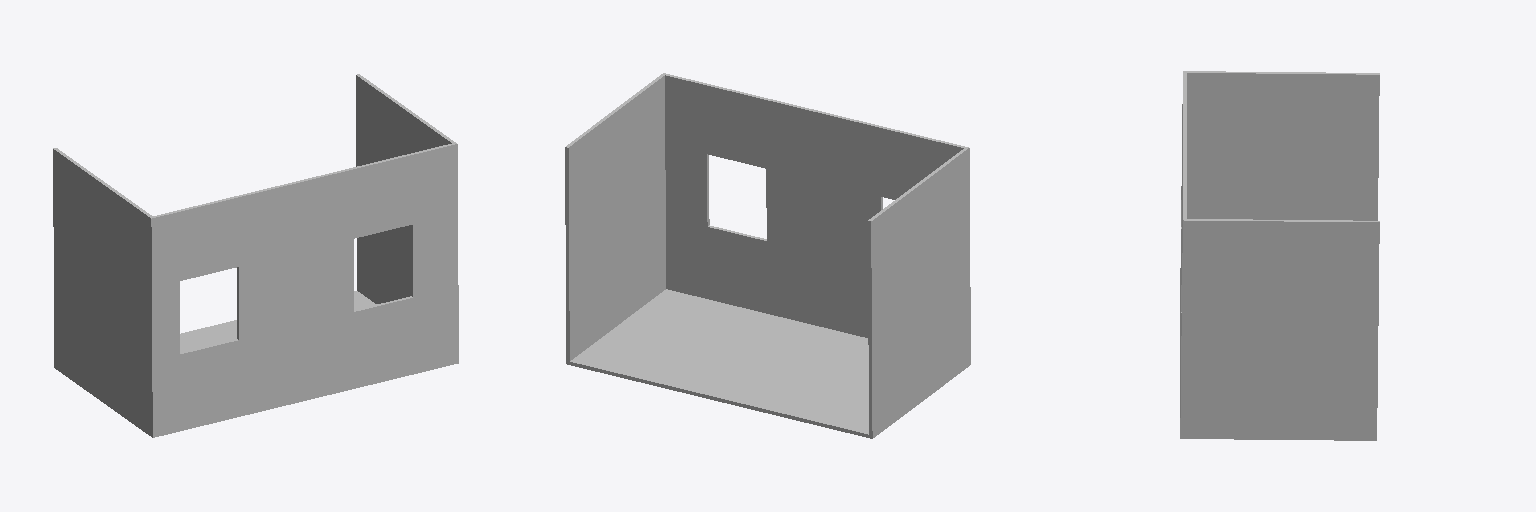
File: room5.obj
3 views of the same model, side by side, from view 1: azimuth 30°, elevation 25°; view 2: azimuth 150°, elevation 25°; view 3: azimuth 270°, elevation 25° (orthographic).
Parts seen in each view (by area): view 1: obj_0; view 2: obj_0; view 3: obj_0.
Part boxes in pixels (bbox=[...]): obj_0: bbox=[53, 74, 458, 437]; obj_0: bbox=[565, 73, 970, 438]; obj_0: bbox=[1180, 71, 1379, 440].
Size of the model in its own units: 88 by 60.54 by 49.66.